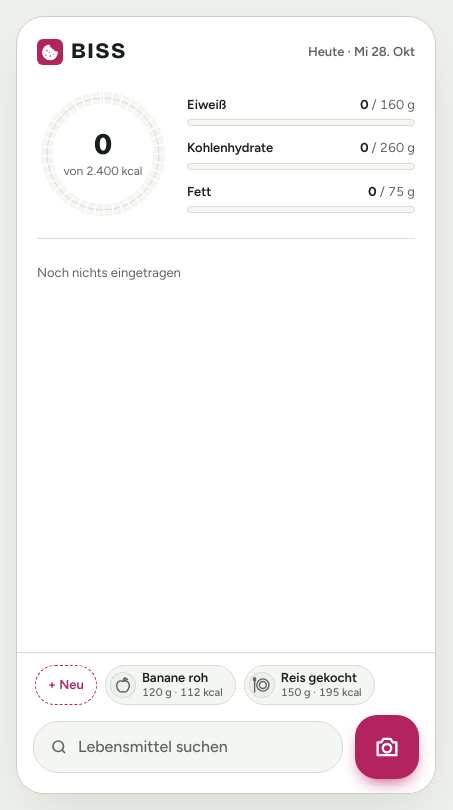
Test: a recent chip sends only the food, Rückgängig deletes the new entry
Click the button "Banane roh 120 g · 112 kcal": (170, 685) [105,665,236,705]
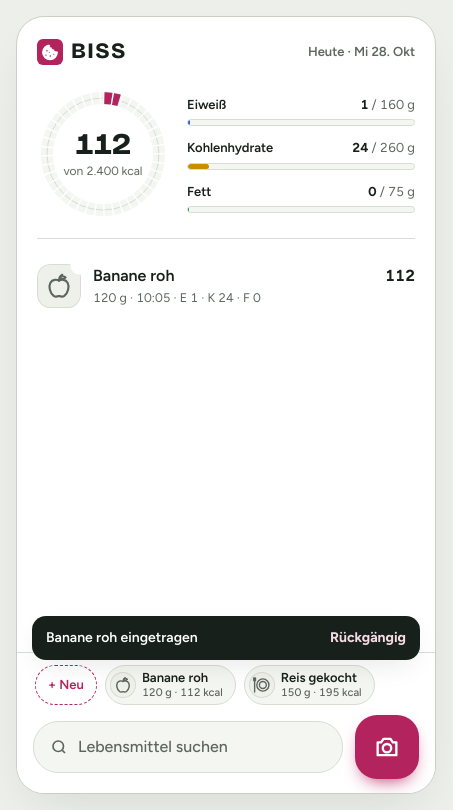
Now the text "Banane roh eingetragen" is shown, box [46,628,198,648]
Now the text "Banane roh" below "Fett" is shown, box [93,266,174,285]
Now the text with test id "kcal-total" reads "112", box [75,126,131,162]
Click the button "Rückgängig": (368, 638) [330,628,406,648]
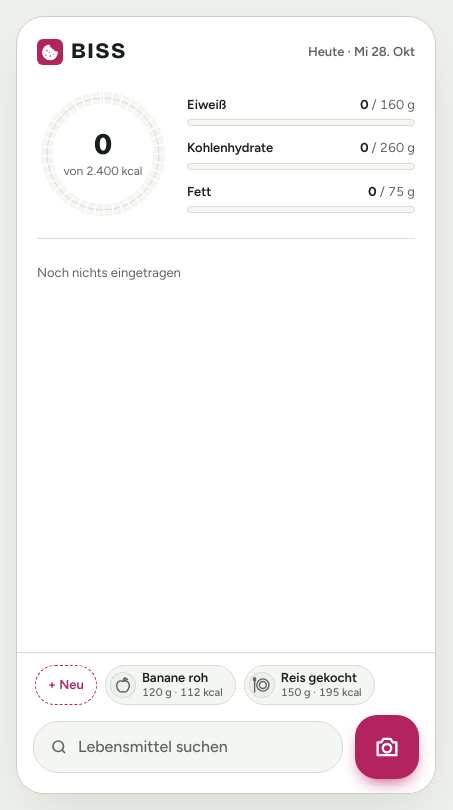
Now the text with test id "kcal-total" reads "0", box [94,126,112,162]
